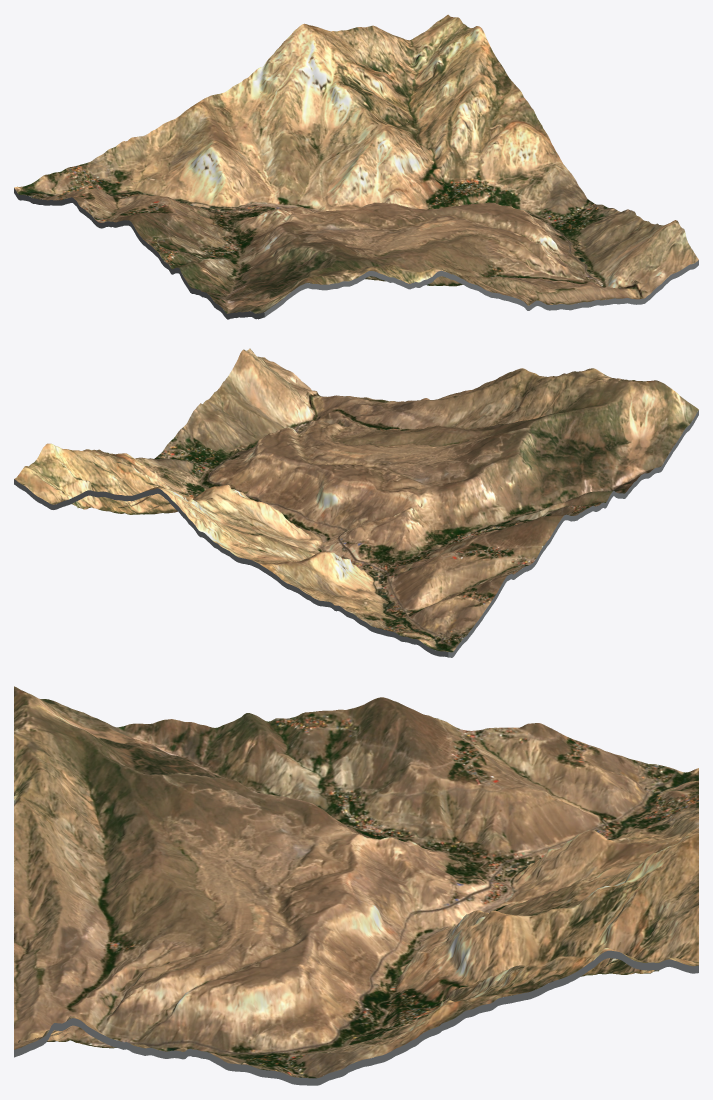
3 renders of one model, top to bottom at view 1: azimuth 30°, elevation 25°; view 2: azimuth 150°, elevation 25°; view 3: azimuth 270°, elevation 25°, orthographic. The views are drawn at different scales.
Parts seen in each view (by area): view 1: terrain, skirt; view 2: terrain, skirt; view 3: terrain, skirt.
Part boxes in pixels (left/top/right/bottom): terrain: left=14, top=14, right=698, bottom=313; skirt: left=14, top=188, right=698, bottom=319; terrain: left=14, top=348, right=698, bottom=652; skirt: left=14, top=410, right=698, bottom=657; terrain: left=14, top=686, right=698, bottom=1078; skirt: left=14, top=950, right=698, bottom=1085.
Size of the model in its own units: 7500 by 1956 by 7500.
1 material, 1 textured.
